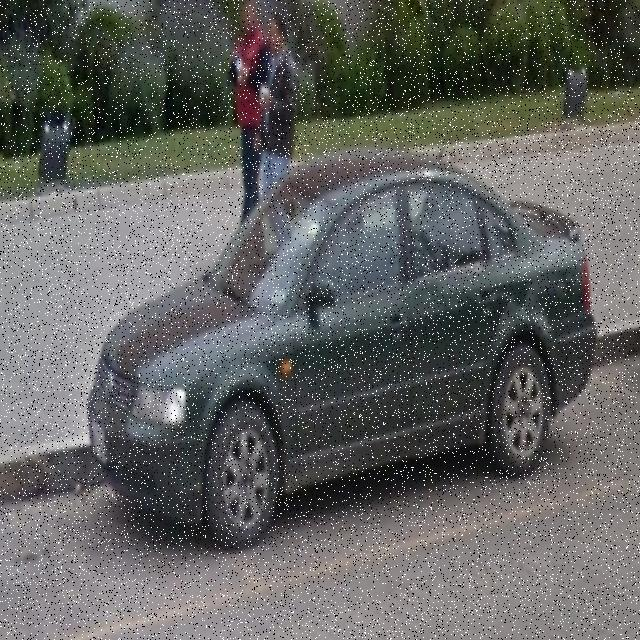cars: (82, 159, 598, 545)
